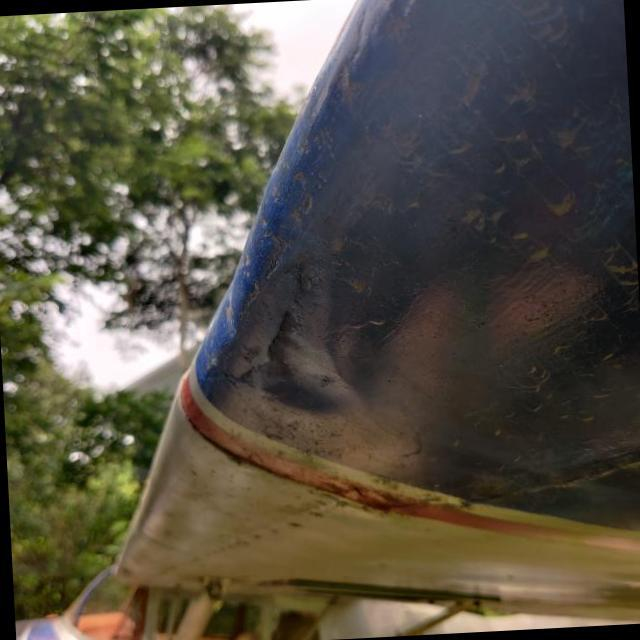Dent: (222, 274, 394, 444)
